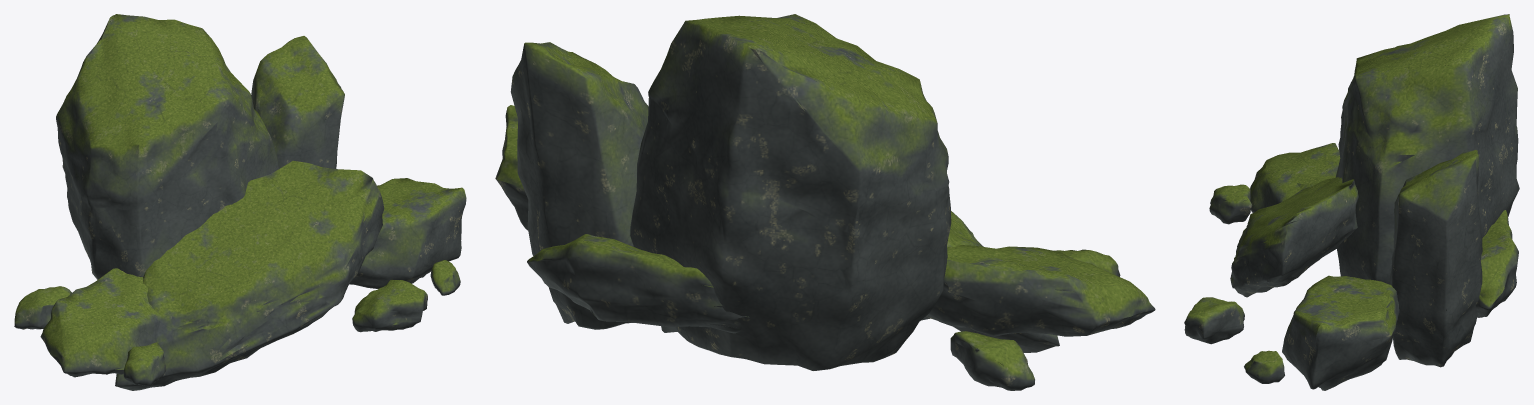
Rendered from basalt-group.glb.
3 views of the same model, side by side, from view 1: azimuth 30°, elevation 25°; view 2: azimuth 150°, elevation 25°; view 3: azimuth 270°, elevation 25° (orthographic). The views are drawn at different scales.
Visible parts, largest first — view 1: Reference basalt group 03.003; view 2: Reference basalt group 03.003; view 3: Reference basalt group 03.003.
Boxes of the visible parts, left/top/right/bottom form: Reference basalt group 03.003: left=14, top=14, right=466, bottom=390; Reference basalt group 03.003: left=495, top=14, right=1155, bottom=390; Reference basalt group 03.003: left=1184, top=14, right=1519, bottom=390.
Bounding box in the file's own units: 4.93 × 3.03 × 3.18.
1 material, 1 textured.
